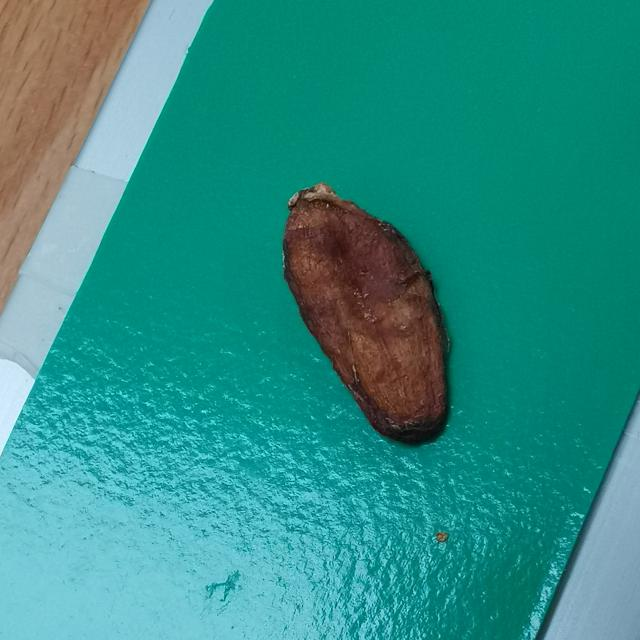Flat_cocoabeans: (208, 130, 503, 472)
